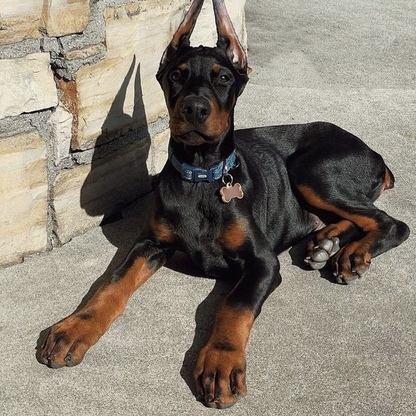doberman: (41, 3, 412, 396)
